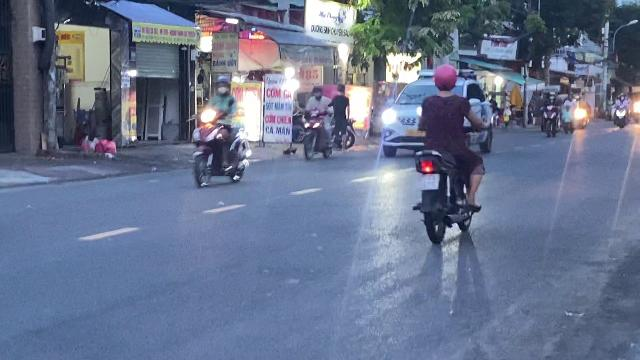helmet: (431, 64, 459, 93), (213, 75, 231, 95)
licenseplate: (418, 174, 438, 190)
motorcyclist: (409, 63, 486, 247), (186, 74, 254, 189)
